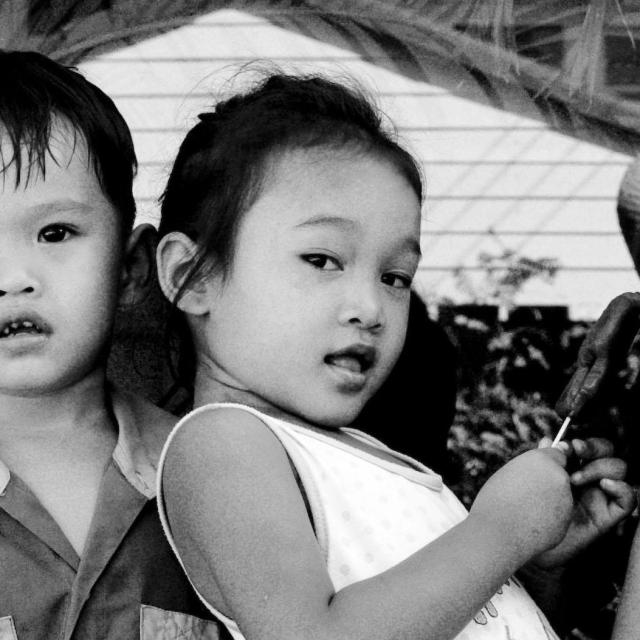no-glass: (295, 249, 412, 296)
